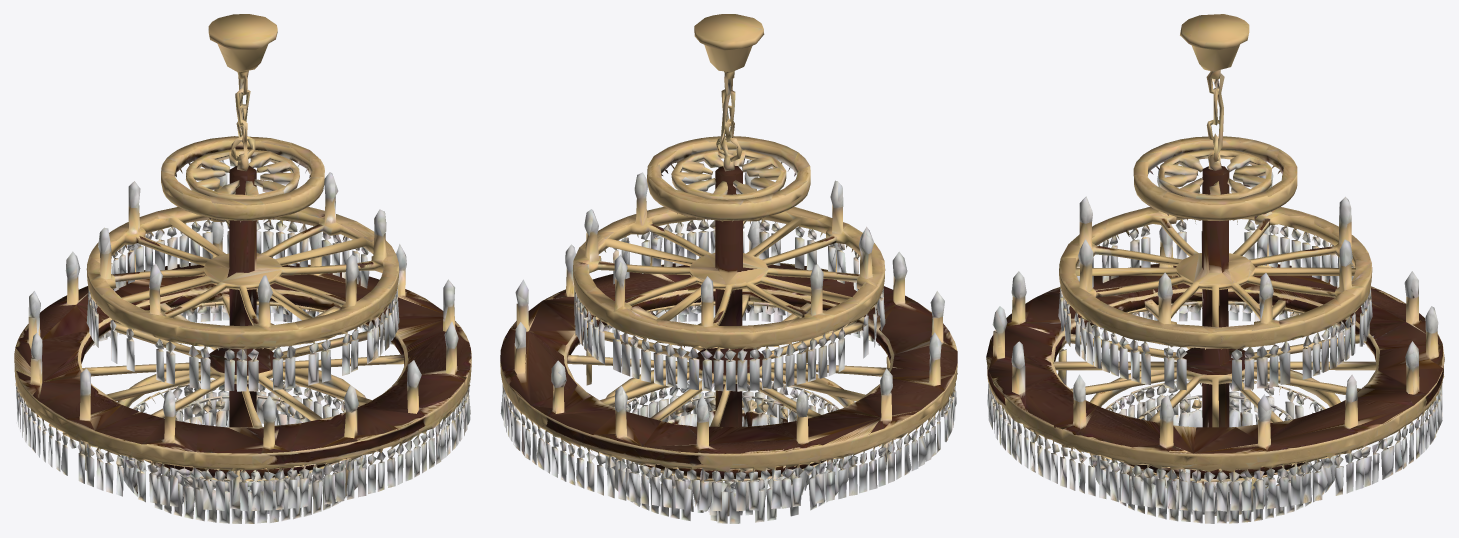
Rendered from chandelier.glb.
3 renders of one model, left to right at view 1: azimuth 30°, elevation 25°; view 2: azimuth 150°, elevation 25°; view 3: azimuth 270°, elevation 25°, orthographic.
Visible parts, largest first — view 1: Mesh_0; view 2: Mesh_0; view 3: Mesh_0.
Boxes of the visible parts, box(x1,y1,x2,y2) form: Mesh_0: box(14, 14, 471, 523); Mesh_0: box(500, 14, 957, 523); Mesh_0: box(986, 14, 1444, 523).
Bounding box in the file's own units: 1.03 × 1.2 × 1.03.
Materials: 1 (1 with a texture image).
